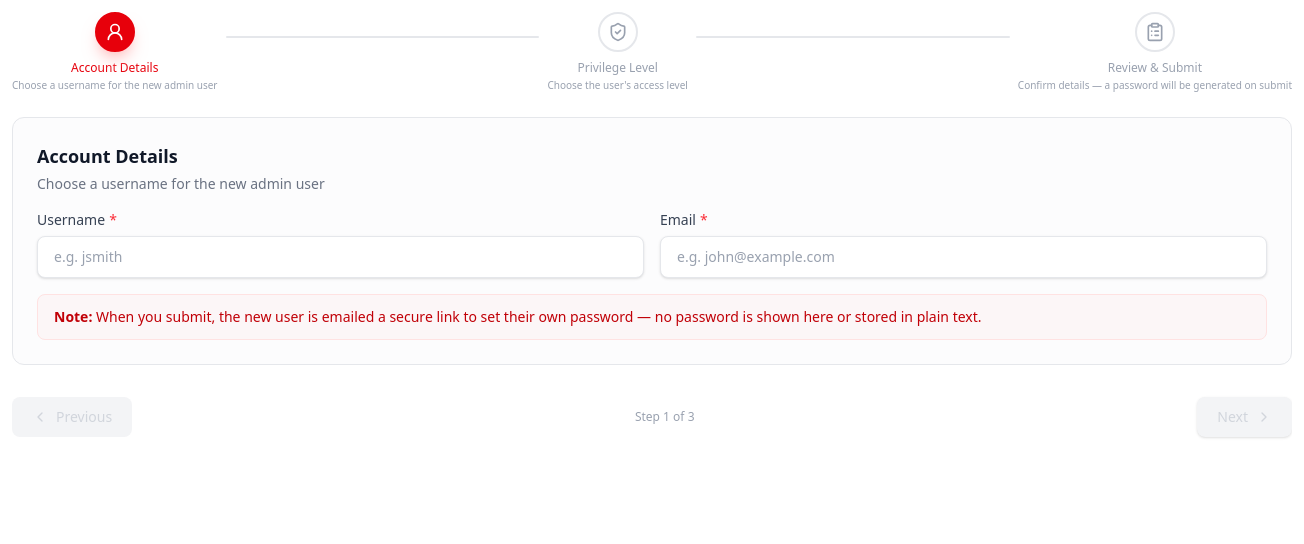
Test case: UserForm Component › Step 3 — Review & API Submission › shows role-specific info banner for admin
Type "testuser" into the field with placeholder "e.g. jsmith" at coordinates (340, 257), box [37,236,644,278]
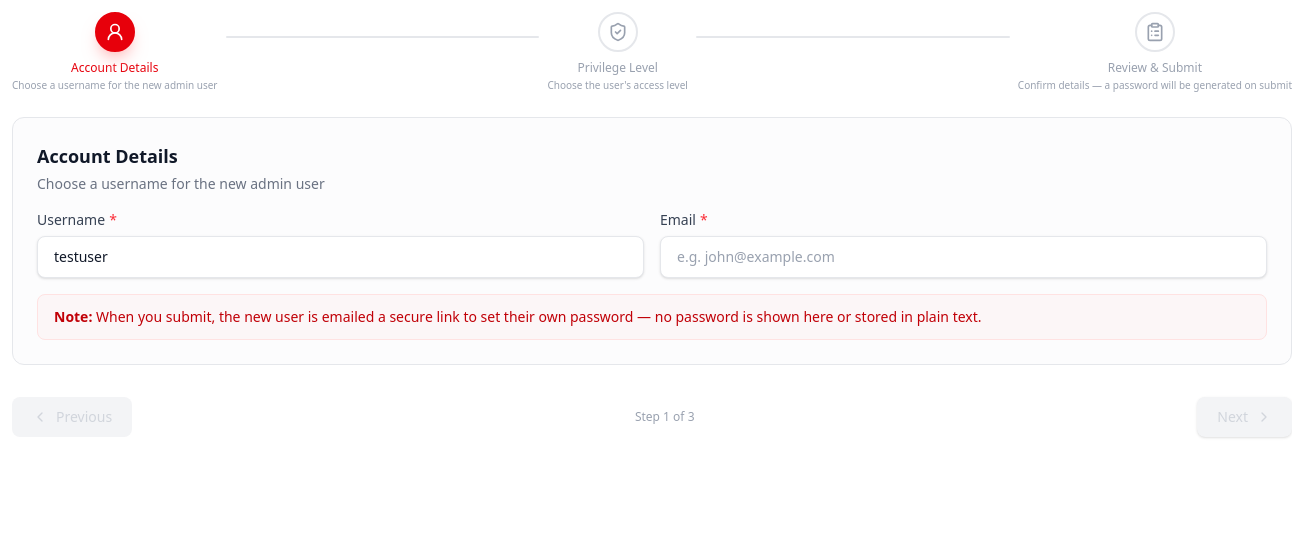
Type "test@example.com" into the field with placeholder "e.g. john@example.com" at coordinates (964, 257), box [660,236,1267,278]
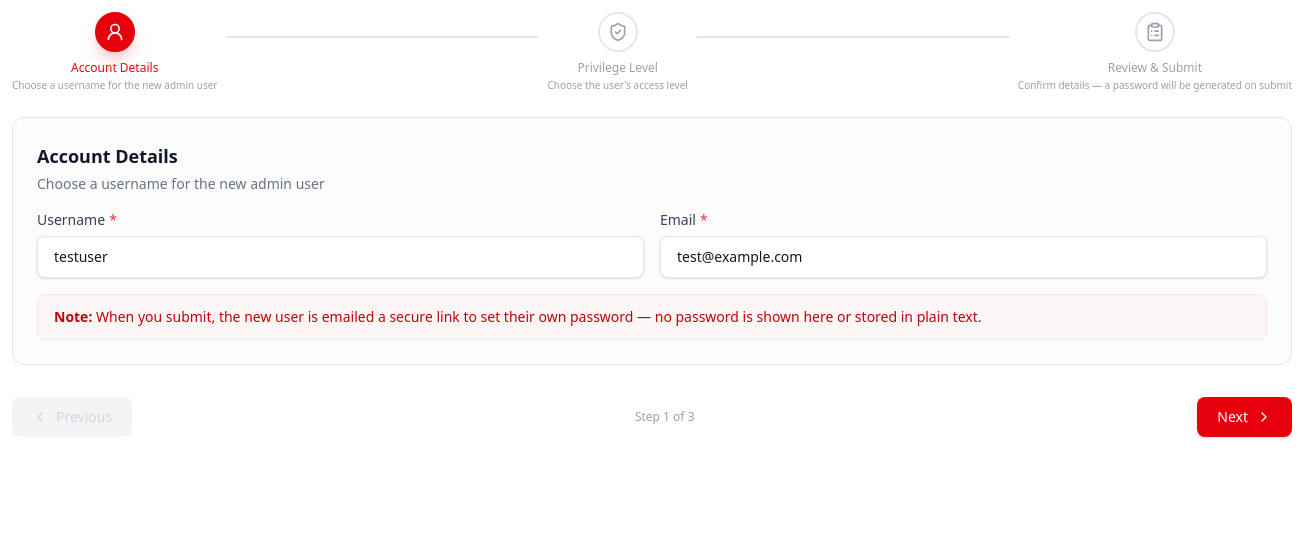
Click the button "Next" at coordinates (1245, 417), box [1197,397,1292,437]
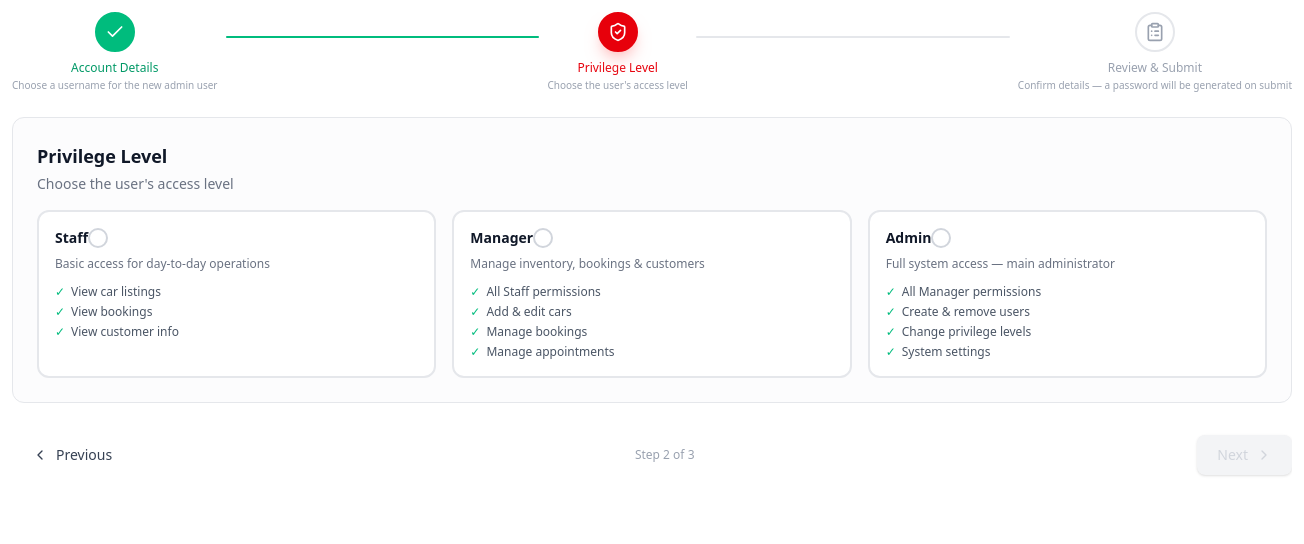
Click the text "Admin" at coordinates (909, 238), box [886,228,932,248]
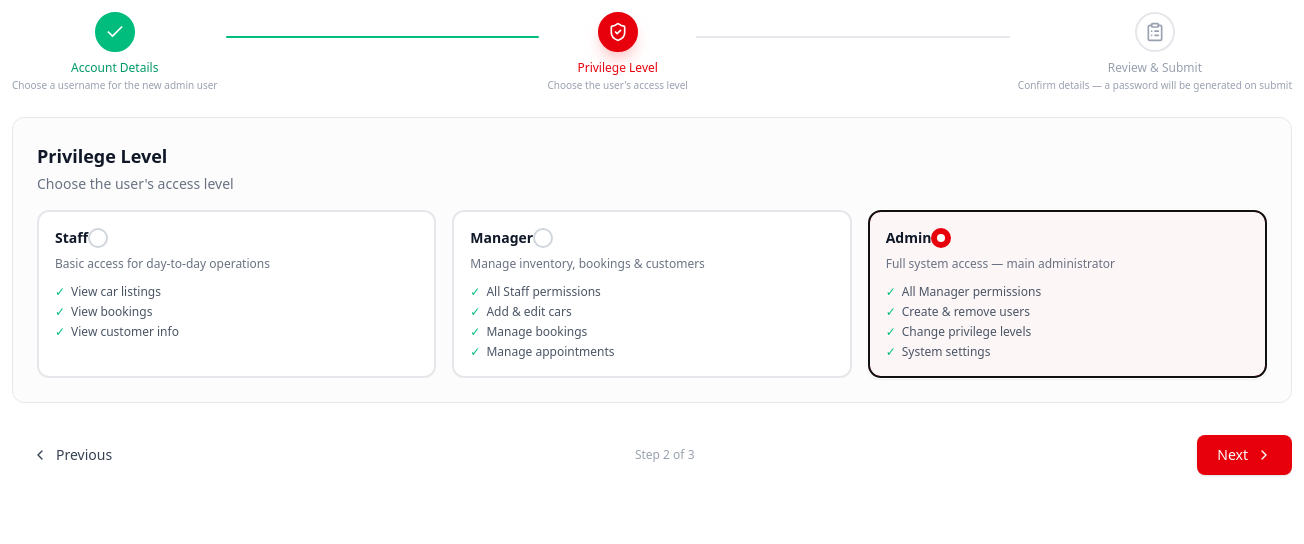
Click the button "Next" at coordinates (1245, 455), box [1197,435,1292,475]
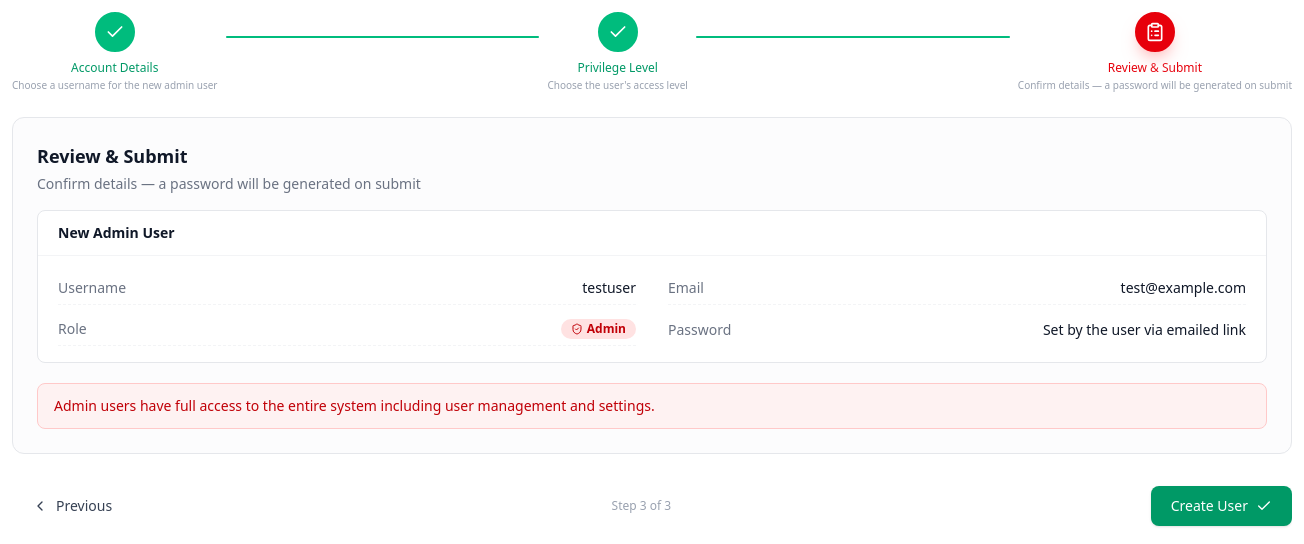
Check: the text "full access to the entire system" is shown, box [140,396,655,415]
